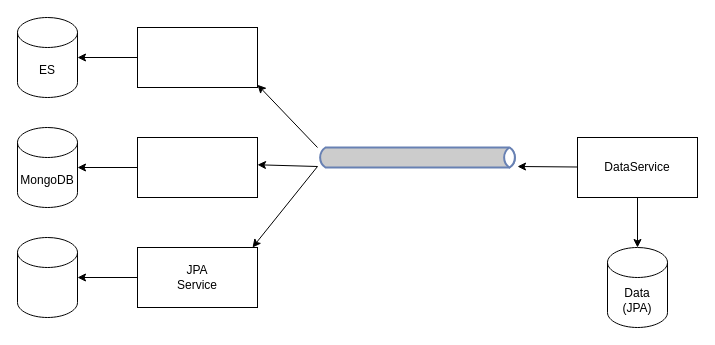
This 715x345 diagram has some shape labels left out. The box of each missing label's shape, as (x1, y1, x2, y2) in pixels:
ES Service: (136, 26, 258, 88)
JPA: (16, 236, 78, 318)
MongoDB Service: (136, 136, 258, 198)
